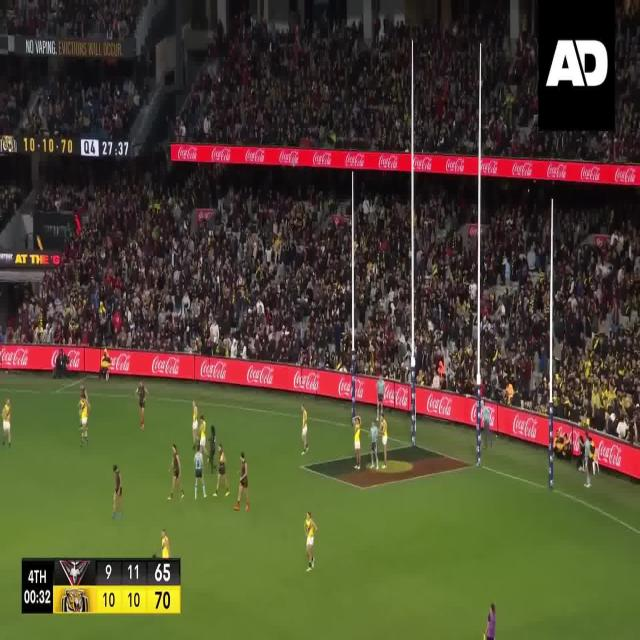crowd: (0, 101, 353, 371), (172, 1, 640, 163), (481, 178, 640, 445), (415, 173, 479, 393), (354, 172, 412, 382), (0, 69, 154, 138), (1, 1, 145, 35), (2, 186, 33, 229)
